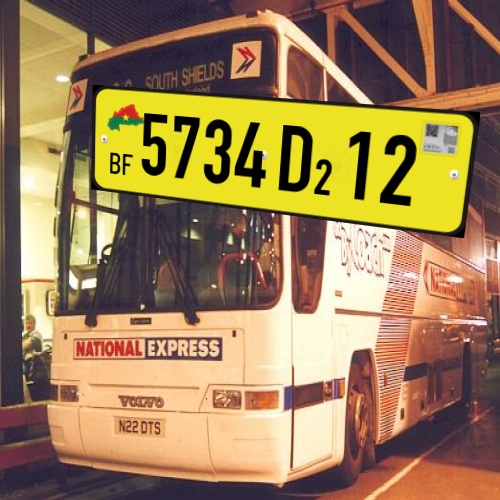plate: (85, 75, 484, 260)
